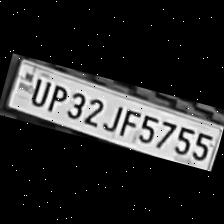2: (79, 91, 107, 127)
3: (61, 85, 87, 121)
5: (132, 109, 160, 145), (169, 120, 196, 156), (188, 126, 215, 162)
7: (150, 115, 176, 151)
F: (116, 104, 140, 139)
J: (100, 97, 124, 132)
P: (43, 78, 68, 114)
U: (24, 72, 52, 108)
